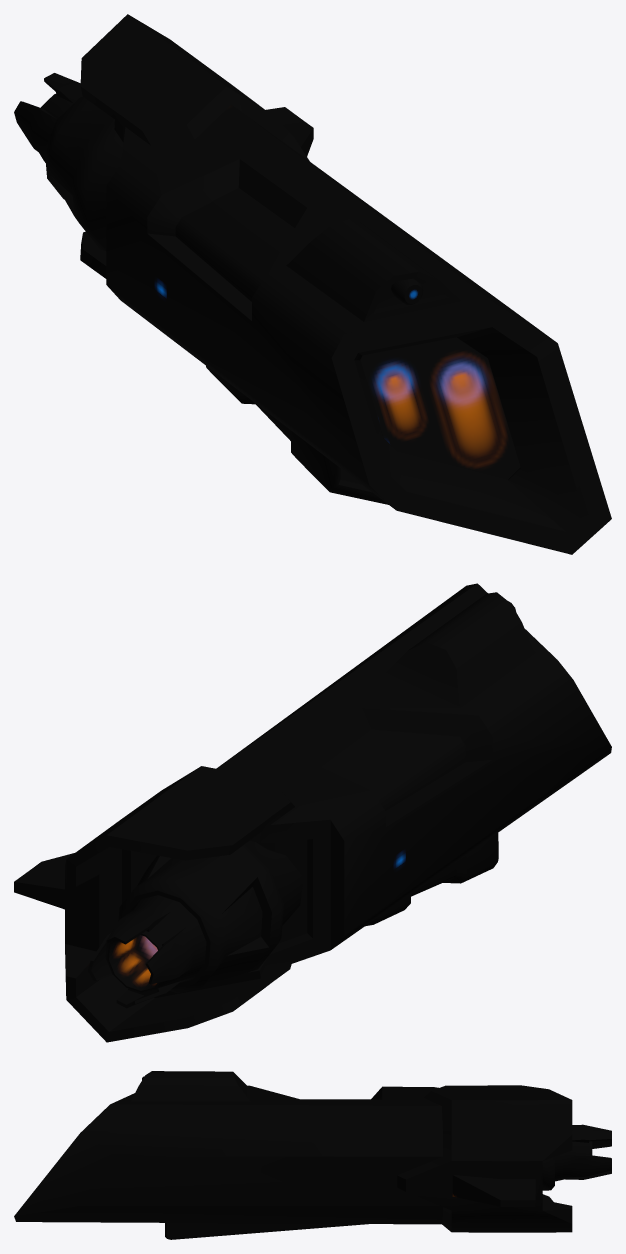
File: SM_L_Engine_6.fbx
3 views of the same model, one above another, from view 1: azimuth 30°, elevation 25°; view 2: azimuth 150°, elevation 25°; view 3: azimuth 270°, elevation 25° (orthographic). The views are drawn at different scales.
Visible parts, largest first — view 1: SM_L_Engine_6; view 2: SM_L_Engine_6; view 3: SM_L_Engine_6.
Part boxes in pixels (left/top/right/bottom): SM_L_Engine_6: left=14, top=14, right=611, bottom=554; SM_L_Engine_6: left=14, top=583, right=611, bottom=1042; SM_L_Engine_6: left=14, top=1071, right=611, bottom=1239.
Bounding box in the file's own units: 54.72 × 50.26 × 172.
